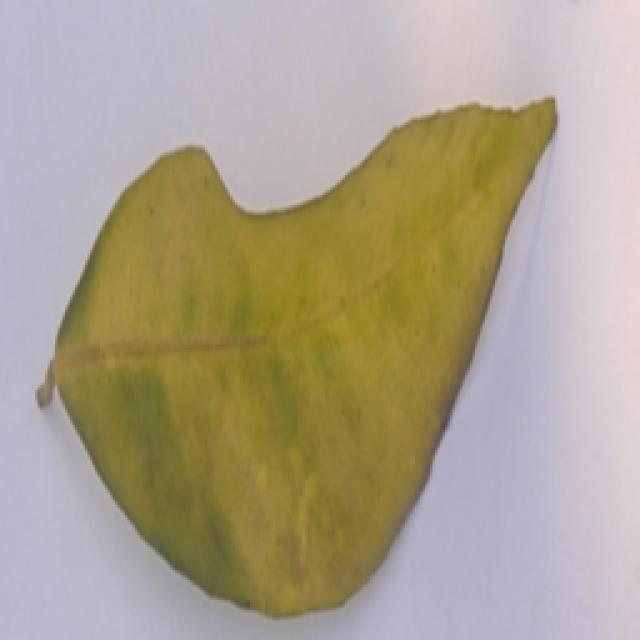greening: (24, 84, 562, 620)
